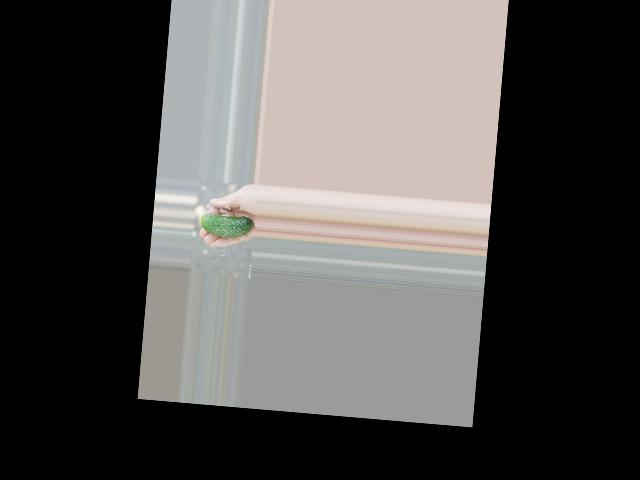cucumber: (200, 213, 253, 240)
